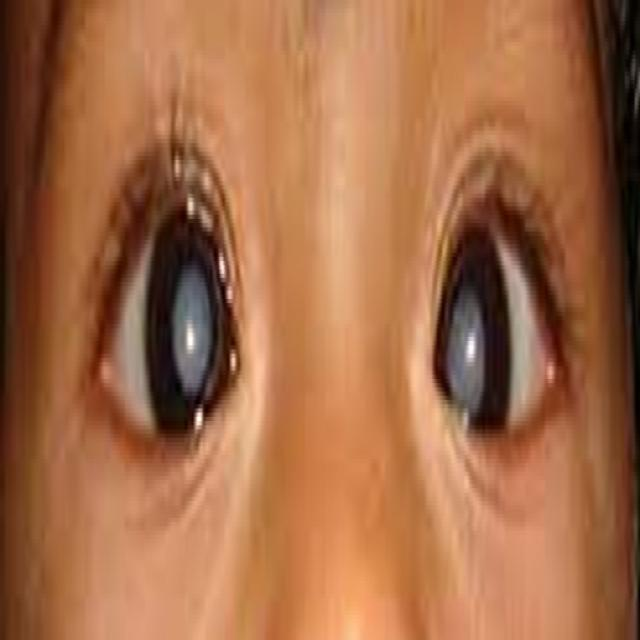reflexo-alterado: (434, 211, 514, 468), (156, 216, 229, 424)
